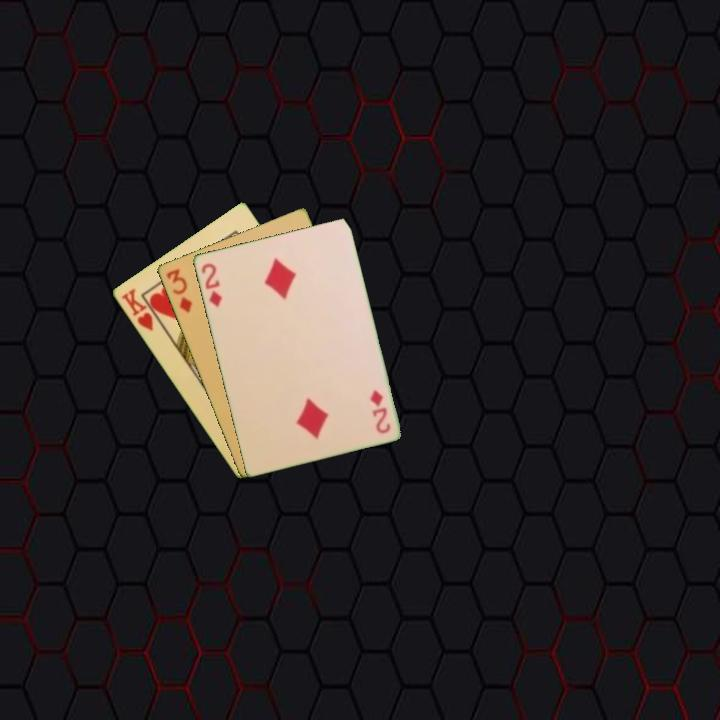2d: (197, 259, 225, 310), (366, 386, 393, 436)
3d: (162, 265, 195, 315)
Kh: (117, 285, 165, 334)
